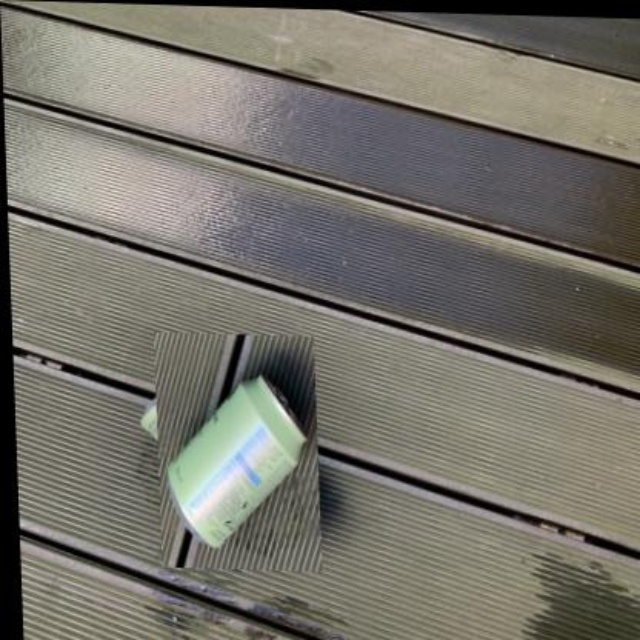trash: (168, 375, 305, 546)
